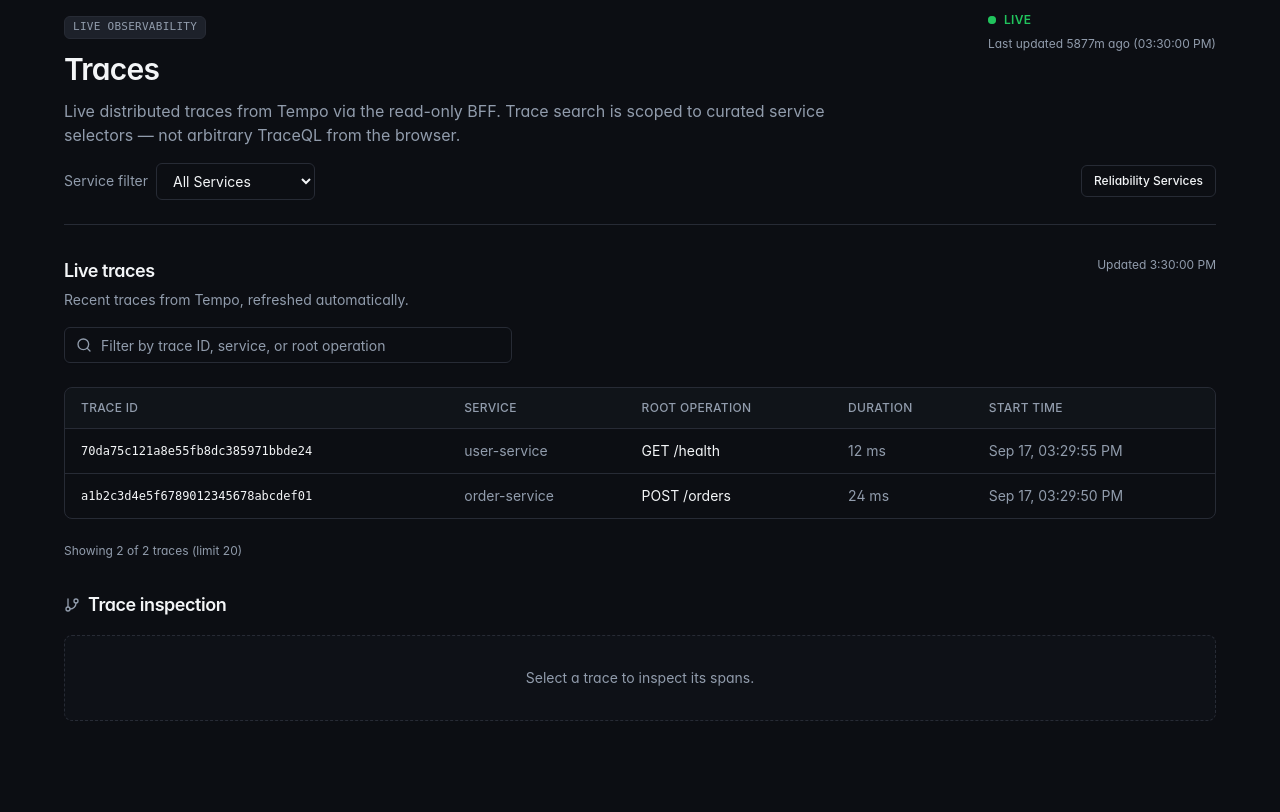
Test: TracesPage › shows trace detail error state with retry
This screenshot has width=1280, height=812.
Expected: the text "GET /health" is shown, [626,429,832,474]
Click the text "70da75c121a8e55fb8dc385971bbde24".
click(257, 451)  # box [65,429,448,474]
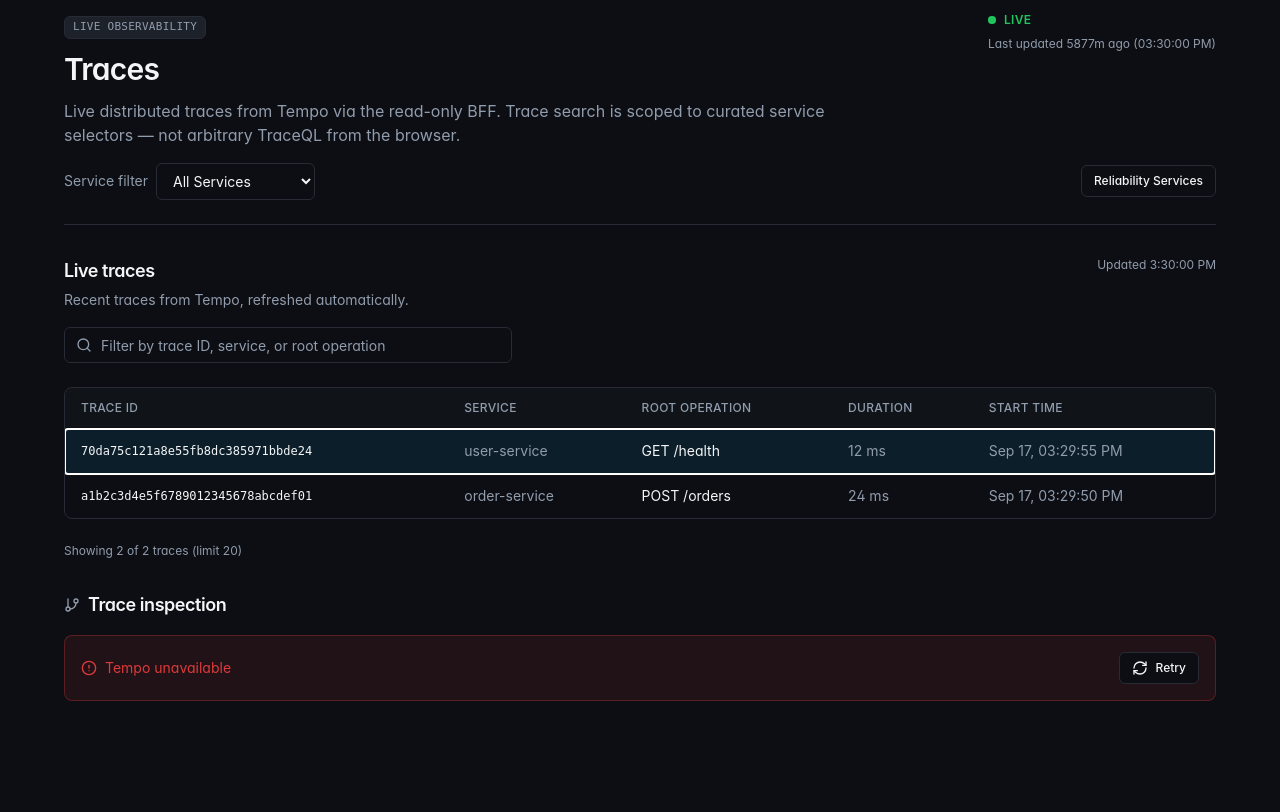
Now the text "Tempo unavailable" is shown, box [105,658,231,678]
Now the button "Retry" is shown, box [1118,652,1199,684]
